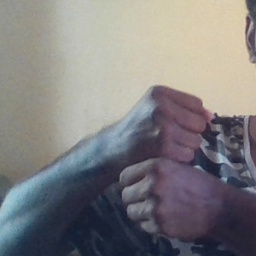G: (111, 84, 215, 240)
